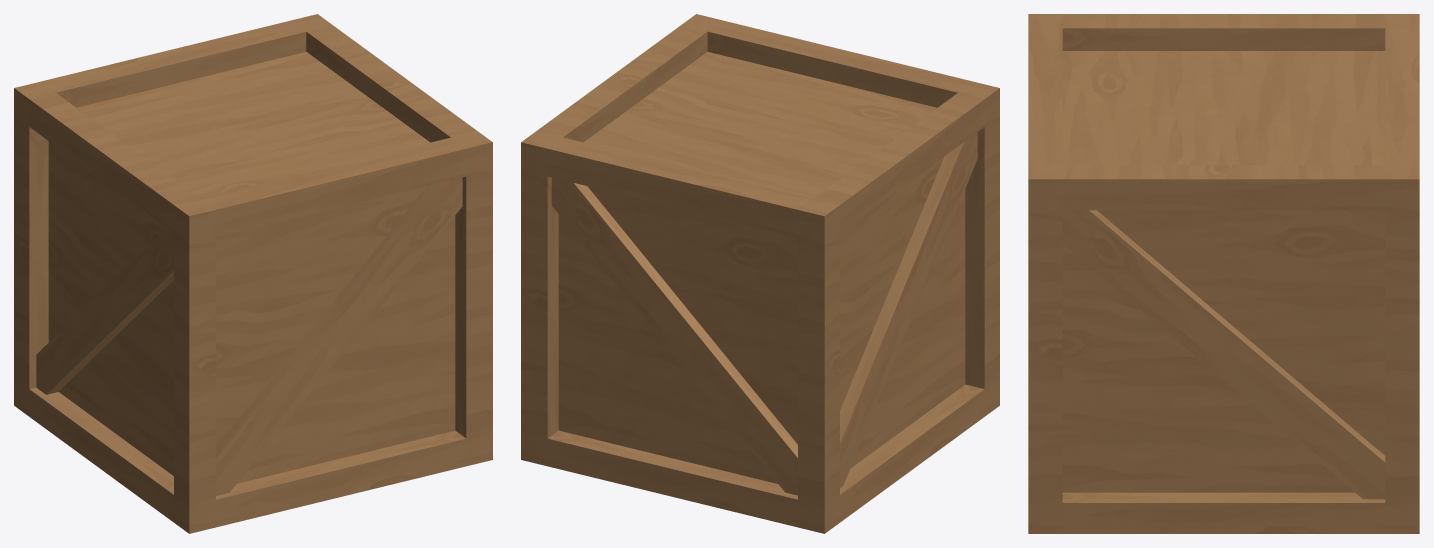
Rendered from SM_Crate_Wood_Large_01.fbx.
The picture shows the model from 3 angles, left to right: view 1: azimuth 30°, elevation 25°; view 2: azimuth 150°, elevation 25°; view 3: azimuth 270°, elevation 25°; orthographic projection. The views are drawn at different scales.
Parts seen in each view (by area): view 1: SM_Crate_Wood_Large_01; view 2: SM_Crate_Wood_Large_01; view 3: SM_Crate_Wood_Large_01.
Part boxes in pixels (x1=…): SM_Crate_Wood_Large_01: x1=14, y1=14, x2=492, y2=533; SM_Crate_Wood_Large_01: x1=521, y1=14, x2=999, y2=533; SM_Crate_Wood_Large_01: x1=1028, y1=14, x2=1419, y2=533.
Size of the model in its own units: 152 by 152 by 152.
